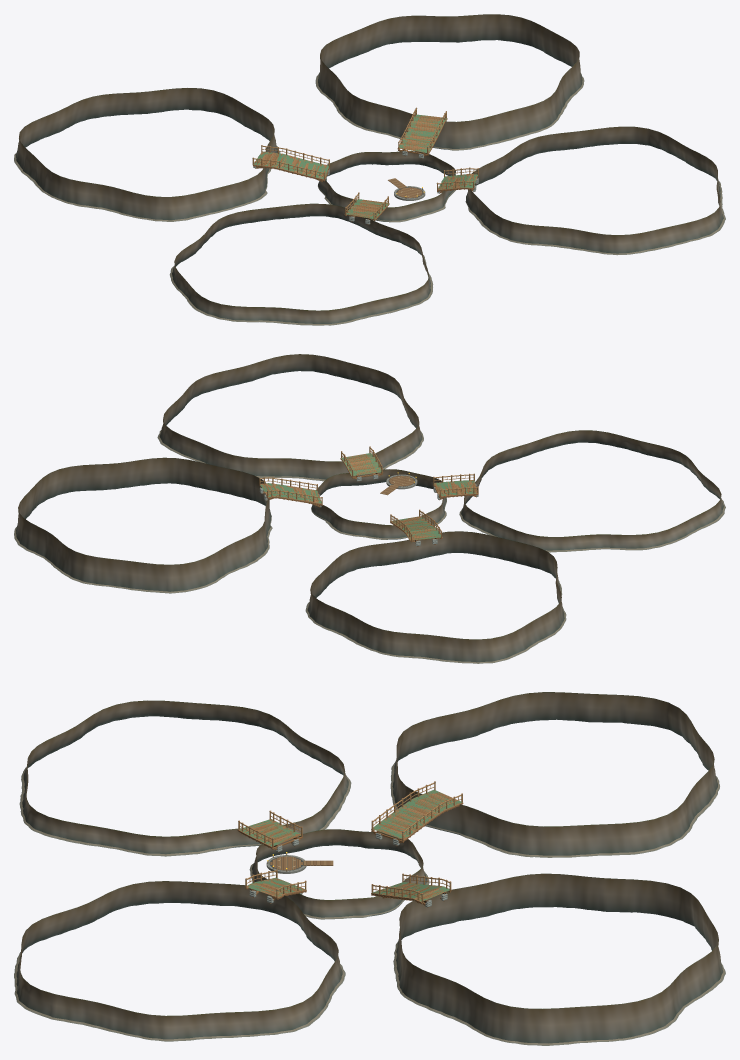
The model's file is grade5-landscape-details-v4.glb.
3 renders of one model, top to bottom at view 1: azimuth 30°, elevation 25°; view 2: azimuth 150°, elevation 25°; view 3: azimuth 270°, elevation 25°, orthographic. The views are drawn at different scales.
Visible parts, largest first — view 1: CoastV4_habitat-4_RockSection, CoastV4_habitat-3_RockSection, CoastV4_habitat-2_RockSection, CoastV4_habitat-1_RockSection, CoastV4_arrival_RockSection, CoastV4_habitat-1_WetShore, CoastV4_habitat-2_WetShore, CoastV4_habitat-3_WetShore, CoastV4_habitat-4_WetShore, Walk_BridgeV4_habitat-4_ContinuousProxy, Walk_BridgeV4_habitat-3_ContinuousProxy, BridgeV4_habitat-3_structure_V4_honey_rail; view 2: CoastV4_habitat-4_RockSection, CoastV4_habitat-3_RockSection, CoastV4_habitat-2_RockSection, CoastV4_habitat-1_RockSection, CoastV4_arrival_RockSection, CoastV4_habitat-4_WetShore, CoastV4_habitat-3_WetShore, CoastV4_habitat-1_WetShore, Walk_BridgeV4_habitat-3_ContinuousProxy; view 3: CoastV4_habitat-4_RockSection, CoastV4_habitat-3_RockSection, CoastV4_habitat-2_RockSection, CoastV4_habitat-1_RockSection, CoastV4_arrival_RockSection, Walk_BridgeV4_habitat-3_ContinuousProxy, CoastV4_habitat-2_WetShore, CoastV4_habitat-4_WetShore, CoastV4_habitat-3_WetShore, CoastV4_habitat-1_WetShore, BridgeV4_habitat-3_structure_V4_honey_rail, Walk_BridgeV4_habitat-4_ContinuousProxy (+1 smaller).
Part boxes in pixels (<box>): CoastV4_habitat-4_RockSection: <box>318,14,582,149</box>; CoastV4_habitat-3_RockSection: <box>16,88,277,220</box>; CoastV4_habitat-2_RockSection: <box>466,126,723,253</box>; CoastV4_habitat-1_RockSection: <box>172,203,430,323</box>; CoastV4_arrival_RockSection: <box>318,151,455,222</box>; CoastV4_habitat-1_WetShore: <box>169,229,433,325</box>; CoastV4_habitat-2_WetShore: <box>465,180,725,255</box>; CoastV4_habitat-3_WetShore: <box>14,145,280,221</box>; CoastV4_habitat-4_WetShore: <box>315,73,584,150</box>; Walk_BridgeV4_habitat-4_ContinuousProxy: <box>399,114,446,152</box>; Walk_BridgeV4_habitat-3_ContinuousProxy: <box>254,151,328,178</box>; BridgeV4_habitat-3_structure_V4_honey_rail: <box>252,145,329,180</box>; CoastV4_habitat-4_RockSection: <box>16,457,271,591</box>; CoastV4_habitat-3_RockSection: <box>307,531,564,662</box>; CoastV4_habitat-2_RockSection: <box>159,354,422,479</box>; CoastV4_habitat-1_RockSection: <box>461,430,723,550</box>; CoastV4_arrival_RockSection: <box>311,469,446,539</box>; CoastV4_habitat-4_WetShore: <box>14,506,272,593</box>; CoastV4_habitat-3_WetShore: <box>305,579,566,663</box>; CoastV4_habitat-1_WetShore: <box>459,500,725,552</box>; Walk_BridgeV4_habitat-3_ContinuousProxy: <box>392,517,440,540</box>; CoastV4_habitat-4_RockSection: <box>396,873,723,1043</box>; CoastV4_habitat-3_RockSection: <box>392,692,717,855</box>; CoastV4_habitat-2_RockSection: <box>16,881,342,1039</box>; CoastV4_habitat-1_RockSection: <box>22,700,348,854</box>; CoastV4_arrival_RockSection: <box>252,829,426,917</box>; Walk_BridgeV4_habitat-3_ContinuousProxy: <box>373,790,462,839</box>; CoastV4_habitat-2_WetShore: <box>14,906,345,1041</box>; CoastV4_habitat-4_WetShore: <box>393,942,725,1045</box>; CoastV4_habitat-3_WetShore: <box>390,761,719,857</box>; CoastV4_habitat-1_WetShore: <box>19,767,351,856</box>; BridgeV4_habitat-3_structure_V4_honey_rail: <box>371,782,462,841</box>; Walk_BridgeV4_habitat-4_ContinuousProxy: <box>372,882,449,901</box>.
Size of the model in its own units: 104 by 6.36 by 94.18.
